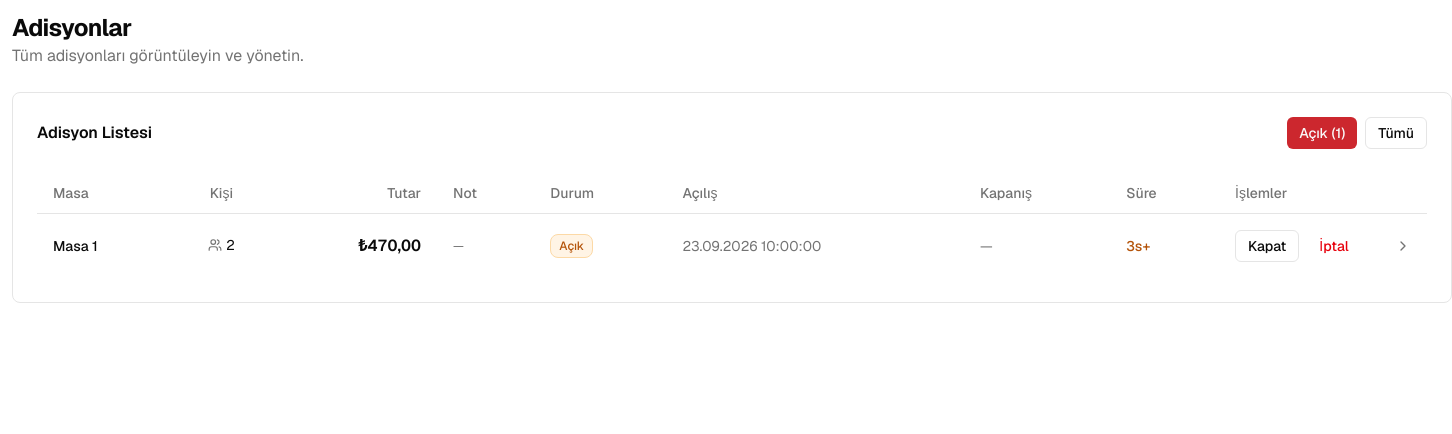
ChecksPage › lists only open checks by default and shows the rest on 'Tümü'
This screenshot has width=1452, height=434.
Expected: the link "Masa 1" is shown, 53,236 -> 98,256
Expected: the link "Masa 2" is not shown
Click the button "Tümü" at (1396, 133), box 1365,117 -> 1427,149
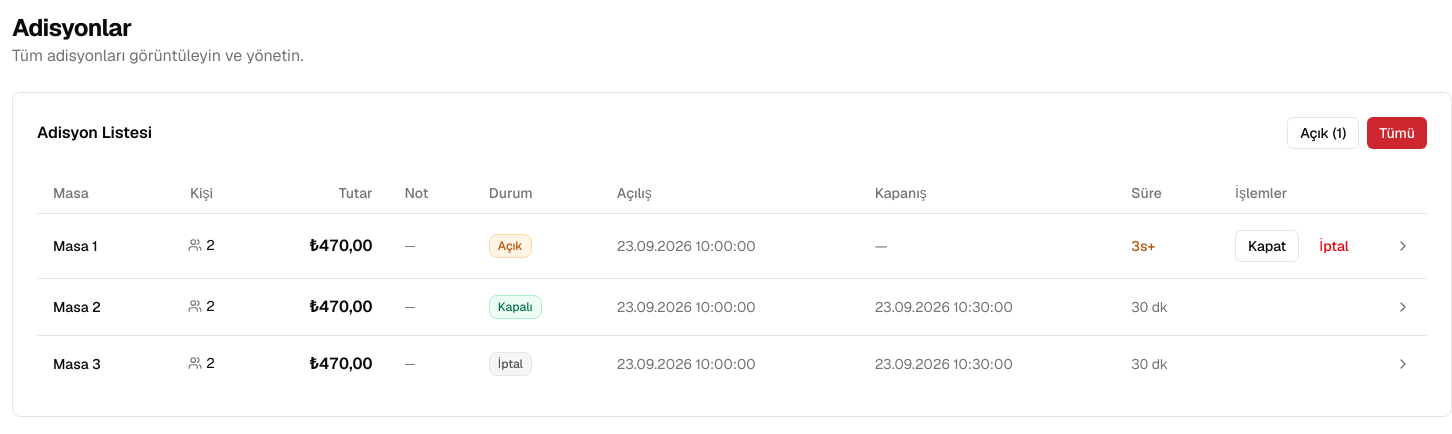
Expected: the link "Masa 2" is shown, 53,296 -> 101,316
Expected: the link "Masa 3" is shown, 53,354 -> 101,374
